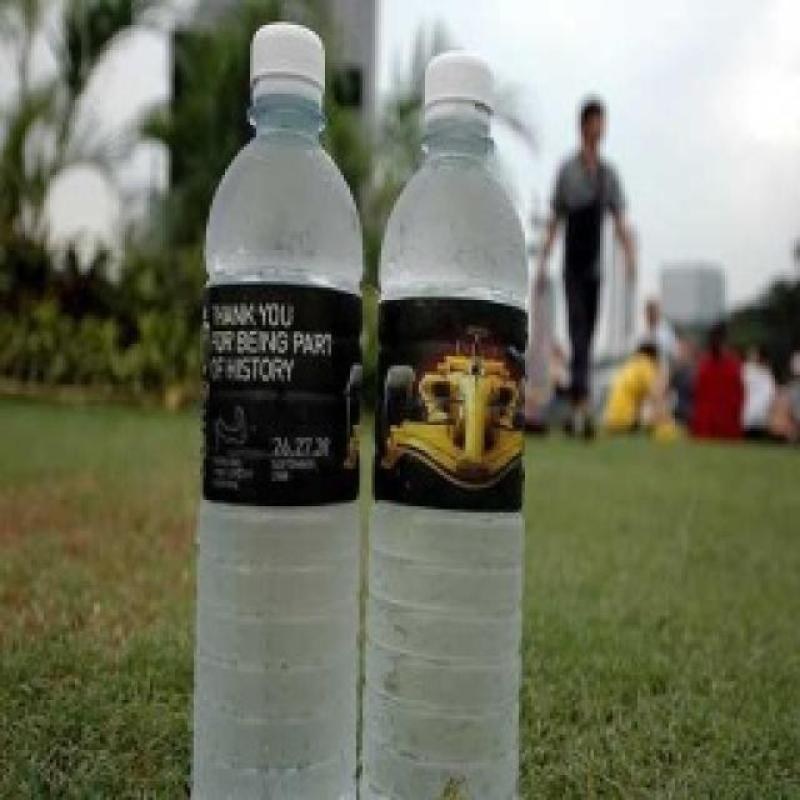botella: (193, 19, 362, 800), (361, 50, 530, 800)
